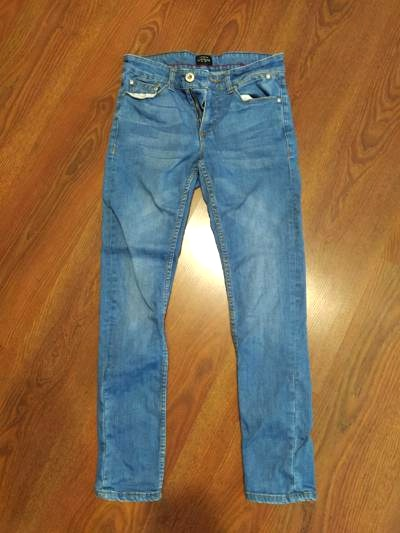Pants: (65, 40, 339, 511)
